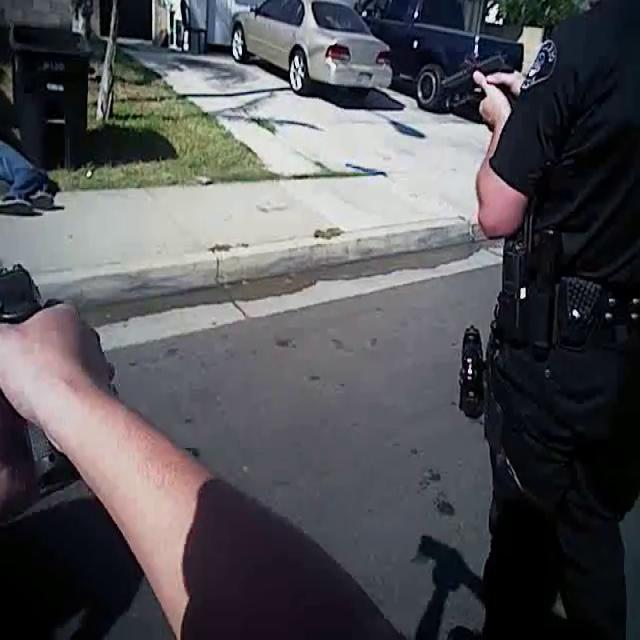gun: (0, 258, 88, 482), (424, 43, 534, 142)
